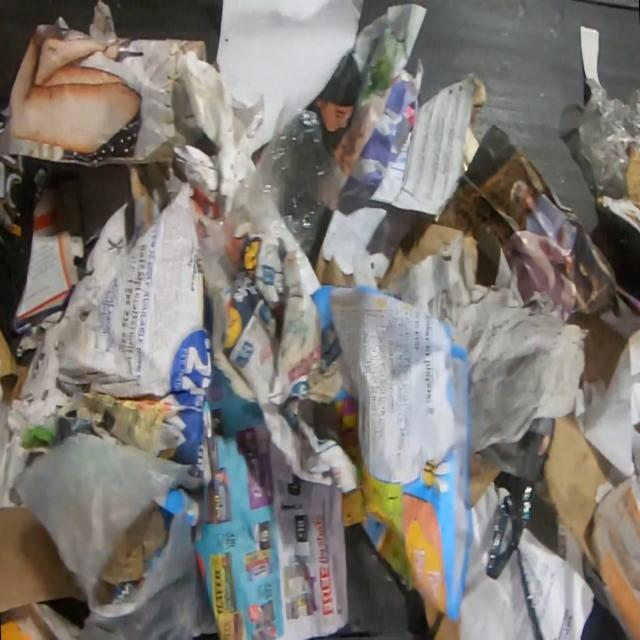cardboard: (309, 282, 475, 623), (11, 160, 85, 356), (533, 409, 612, 579), (371, 198, 481, 290), (0, 505, 90, 613), (97, 501, 166, 605), (563, 309, 630, 392), (0, 327, 30, 402), (470, 441, 502, 510), (419, 593, 462, 640), (591, 195, 640, 236), (125, 163, 171, 198), (626, 150, 640, 212)
rigid_plastic: (486, 484, 551, 640)
soft_plastic: (13, 432, 200, 639), (240, 106, 340, 272), (0, 94, 49, 329), (578, 74, 639, 199), (199, 220, 234, 290)
